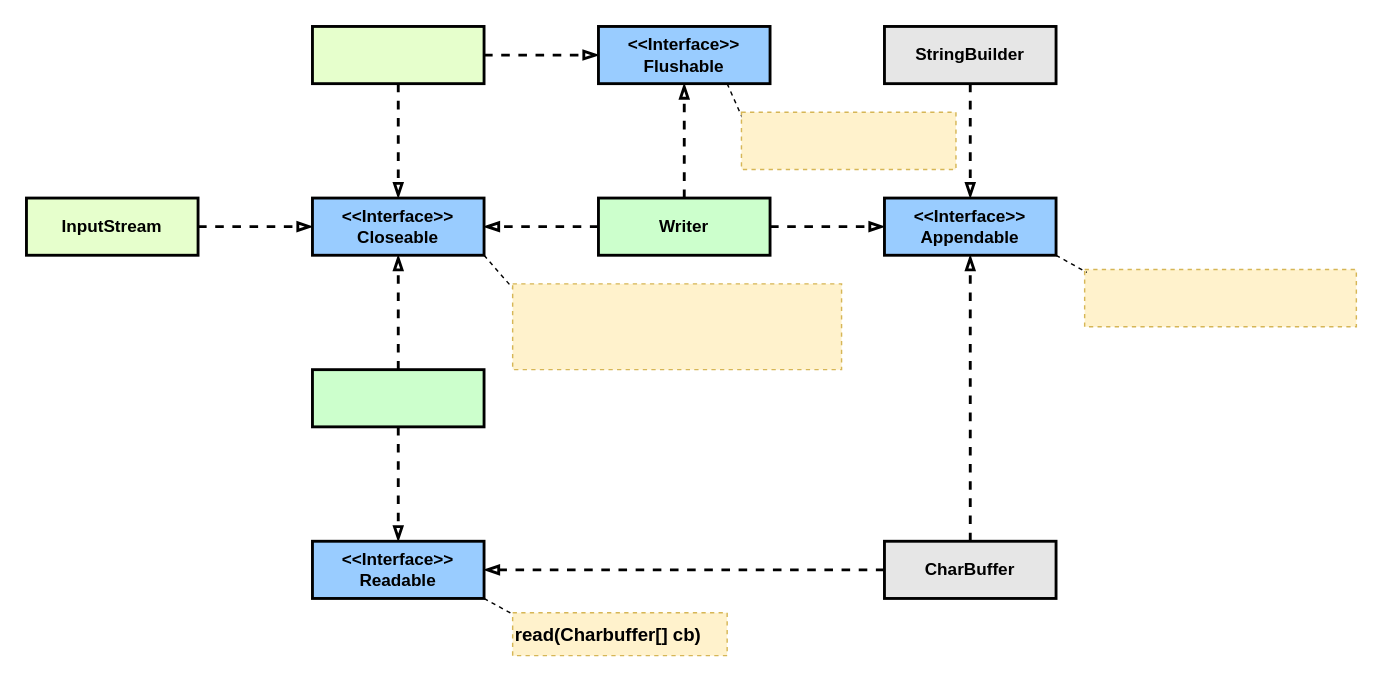
Some shapes in this 1381 by 681 pixel diagram are drawn without their labels. Here are the shapes that lost their labels. From the top down, the centre of each, then its label:
At (x=397, y=54): "OutputStream".
At (x=848, y=140): "flush() 冲刷输出流的缓冲区。".
At (x=1219, y=297): "append(char c) append(CharSequence cs)".
At (x=676, y=326): "close() 关闭并释放流资源。 关闭输出流时会冲刷该流的缓冲区。".
At (x=397, y=398): "Reader".
